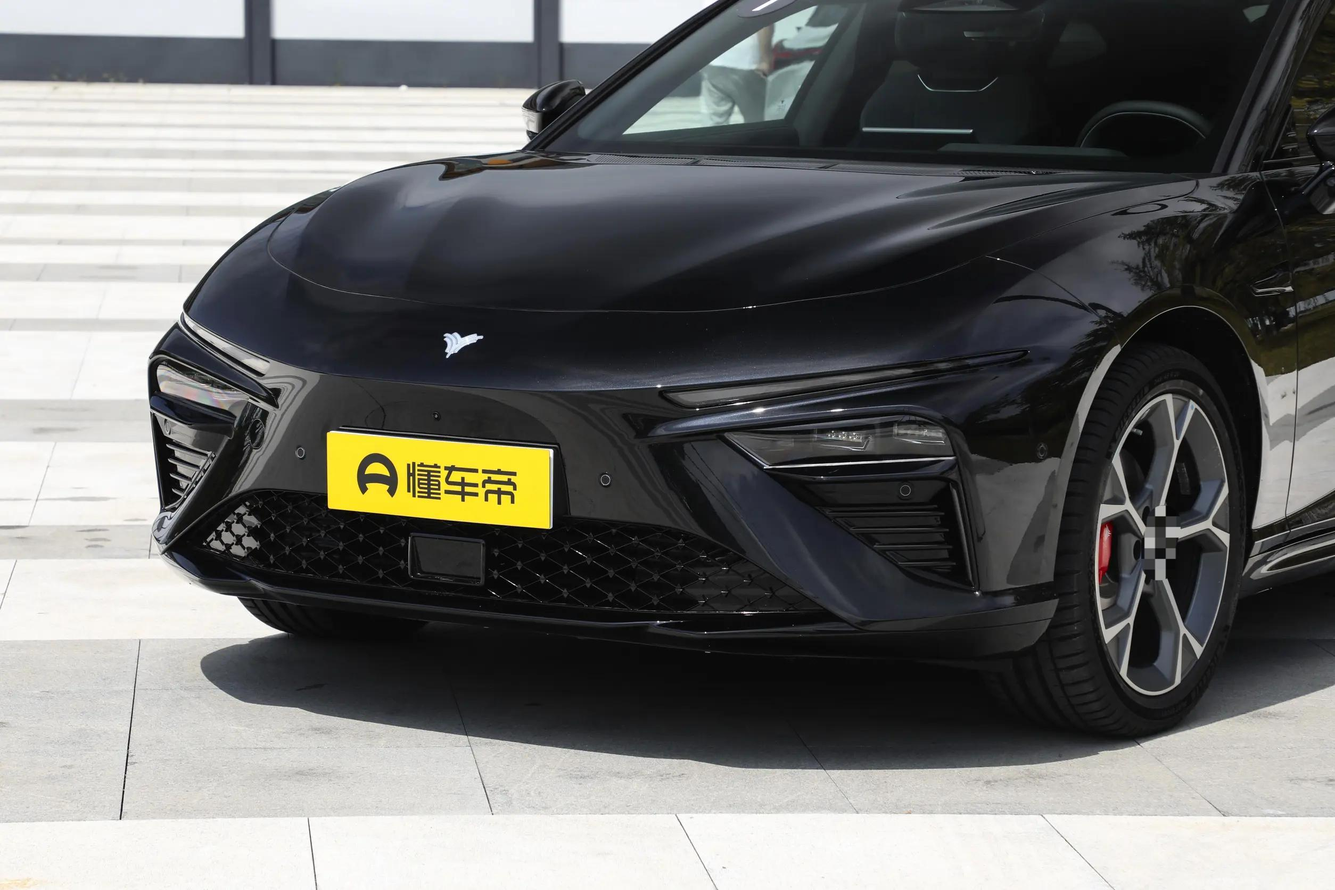NETA: (441, 331, 483, 358)
